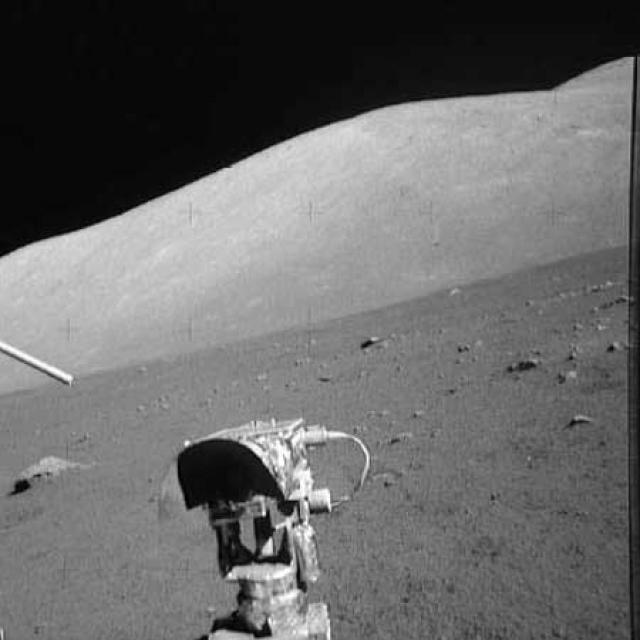artifact: (172, 411, 377, 639), (2, 338, 79, 393)
rock: (12, 444, 80, 496), (508, 350, 542, 376), (358, 330, 392, 354), (560, 408, 596, 430)
